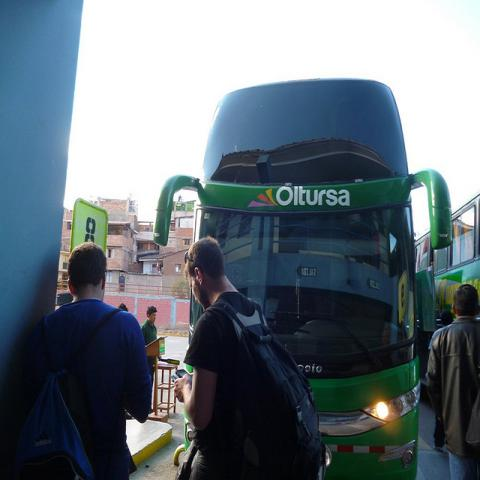bus: (155, 79, 452, 474), (414, 195, 479, 397)
